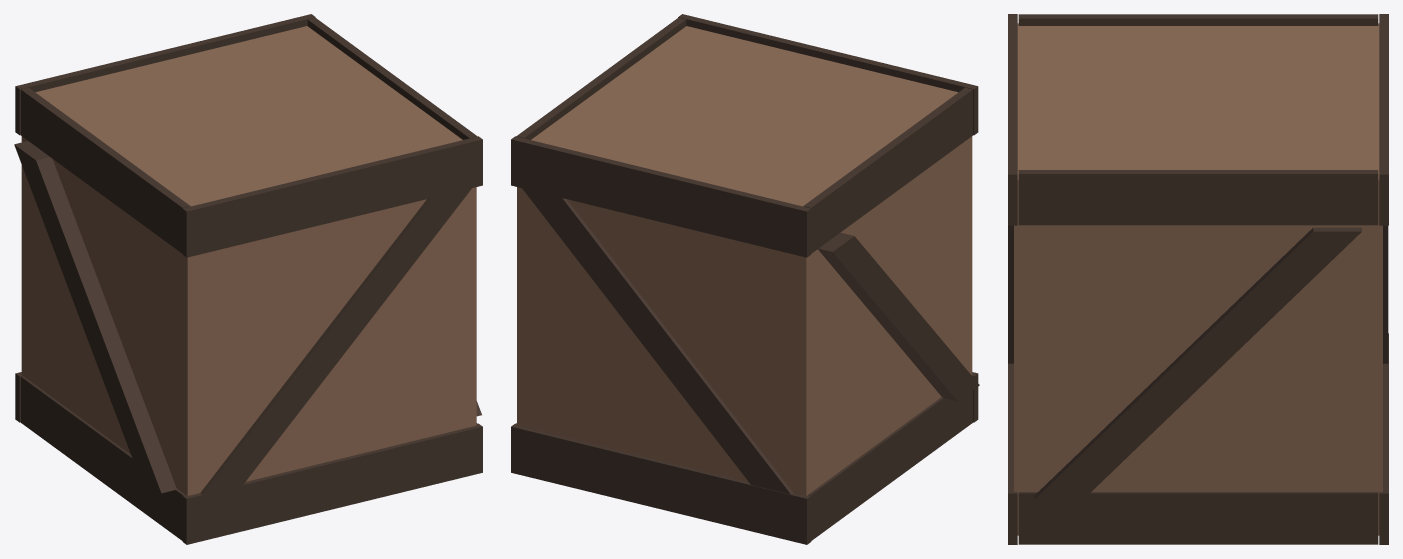
The picture shows the model from 3 angles, left to right: view 1: azimuth 30°, elevation 25°; view 2: azimuth 150°, elevation 25°; view 3: azimuth 270°, elevation 25°; orthographic projection. The views are drawn at different scales.
Parts seen in each view (by area): view 1: 17. box kayu.113; view 2: 17. box kayu.113; view 3: 17. box kayu.113.
Boxes of the visible parts, box(x1,y1,x2,y2) form: 17. box kayu.113: box(14, 14, 482, 544); 17. box kayu.113: box(511, 14, 979, 544); 17. box kayu.113: box(1008, 14, 1388, 544).
Size of the model in its own units: 38.5 by 38.23 by 35.62.
